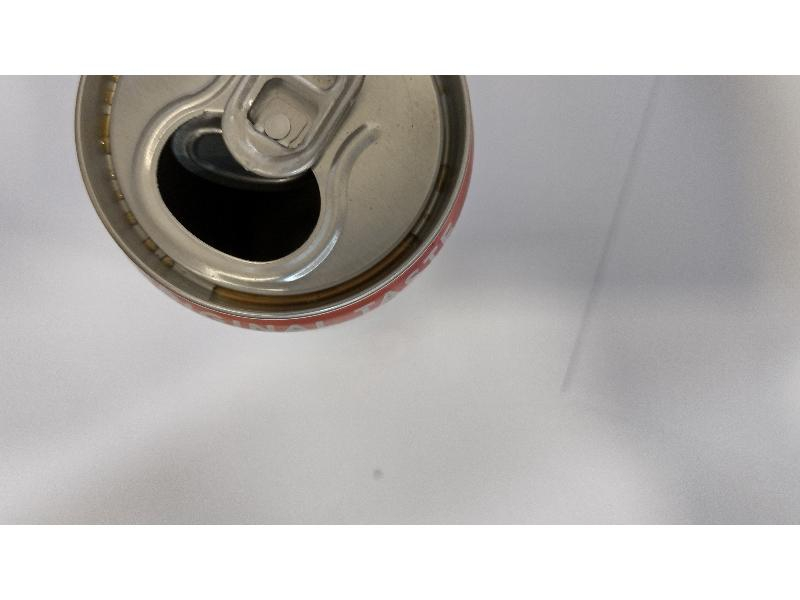can: (75, 76, 479, 338)
